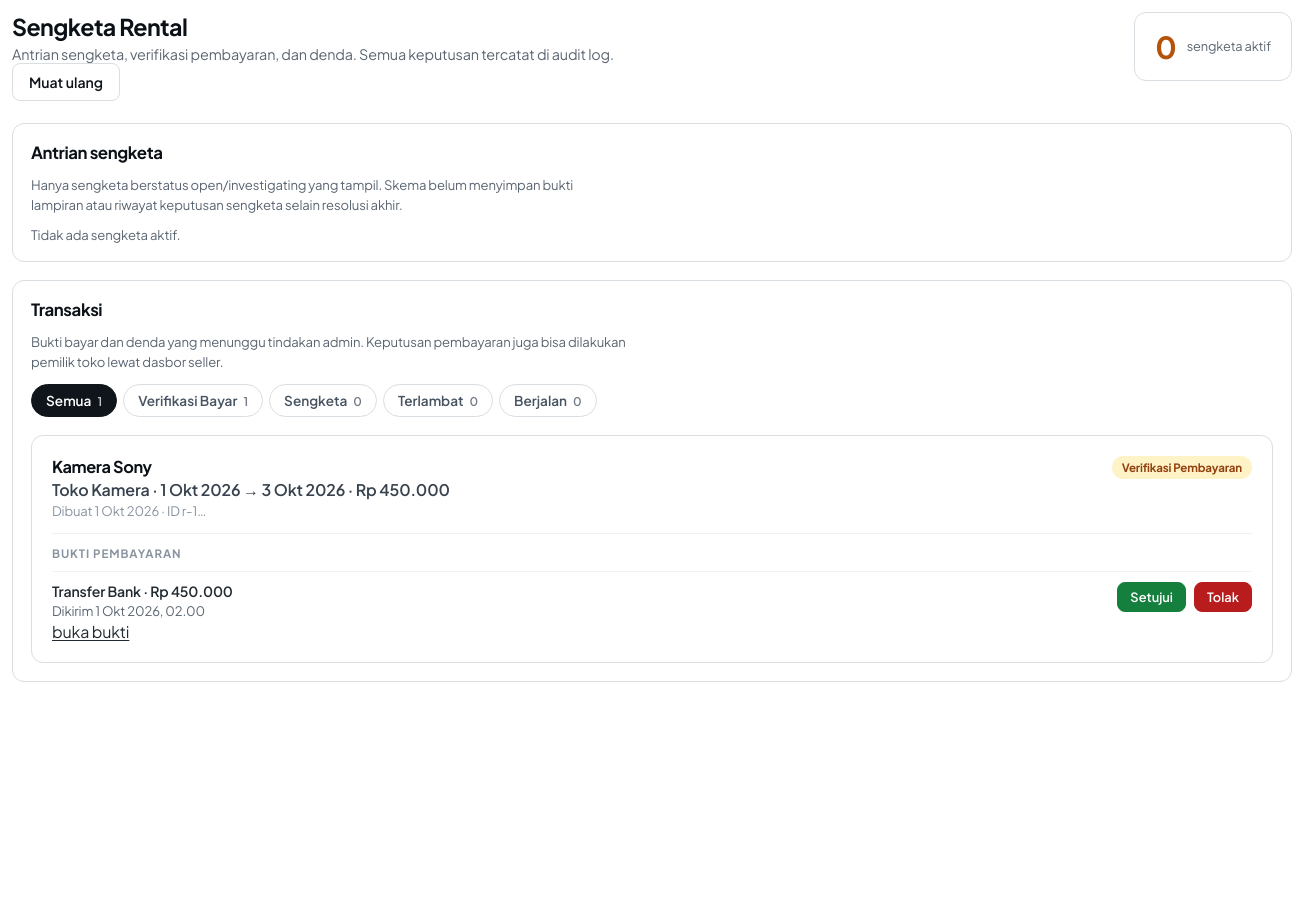
Scenario: AdminOrders — verifikasi pembayaran › gagal menolak bukti: alasan tetap terisi dan form tetap terbuka
expect the heading "Kamera Sony" is shown: met, box [52,456,152,477]
expect the text "Transfer Bank · Rp 450.000" is shown: met, box [52,582,233,600]
Click the button "Tolak". click: click(1223, 597)
box: [1194,582,1252,612]
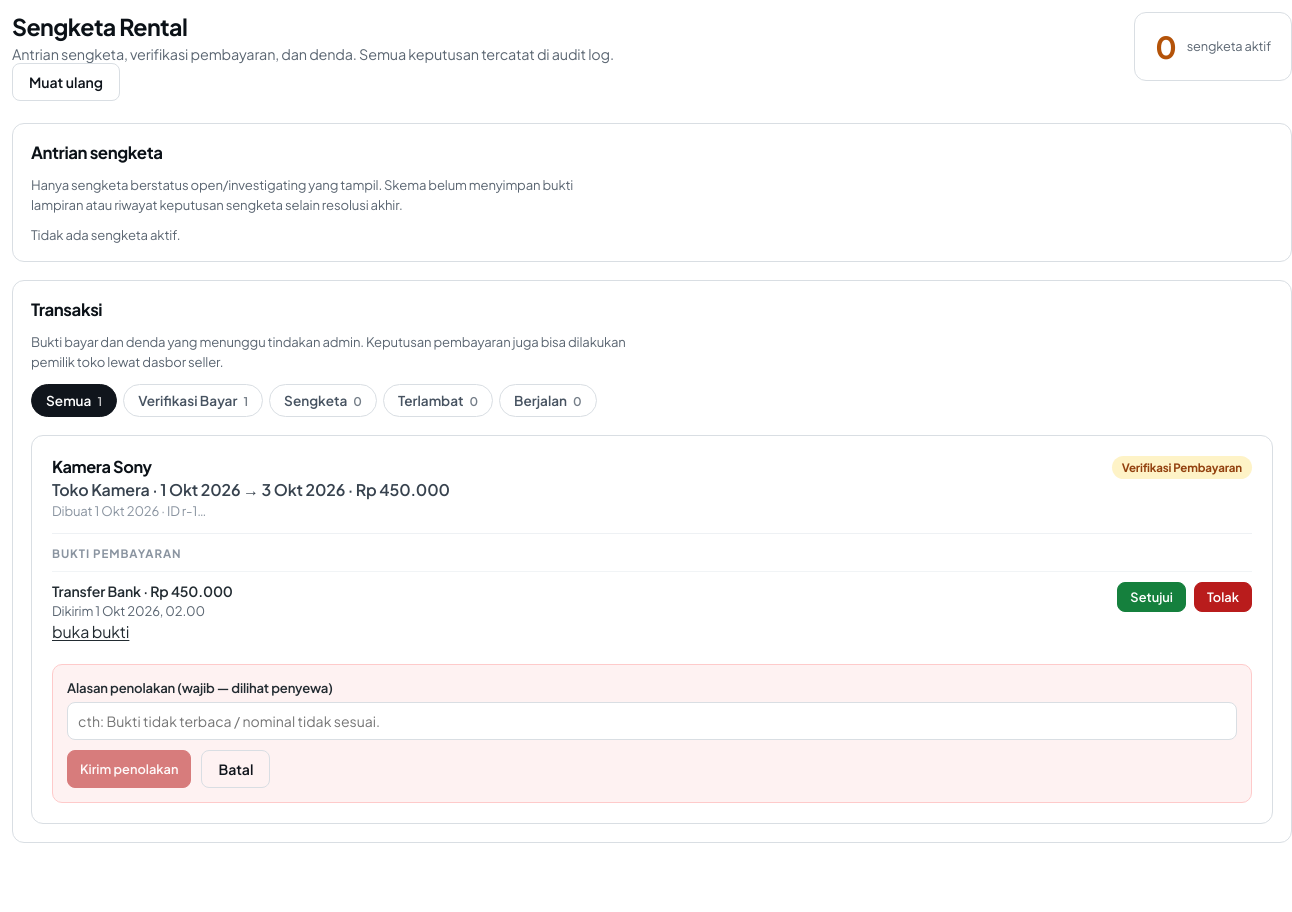
Type "Bukti buram." into the field labelled "Alasan penolakan (wajib — dilihat penyewa)". click: (652, 721)
box: [67,702,1237,740]
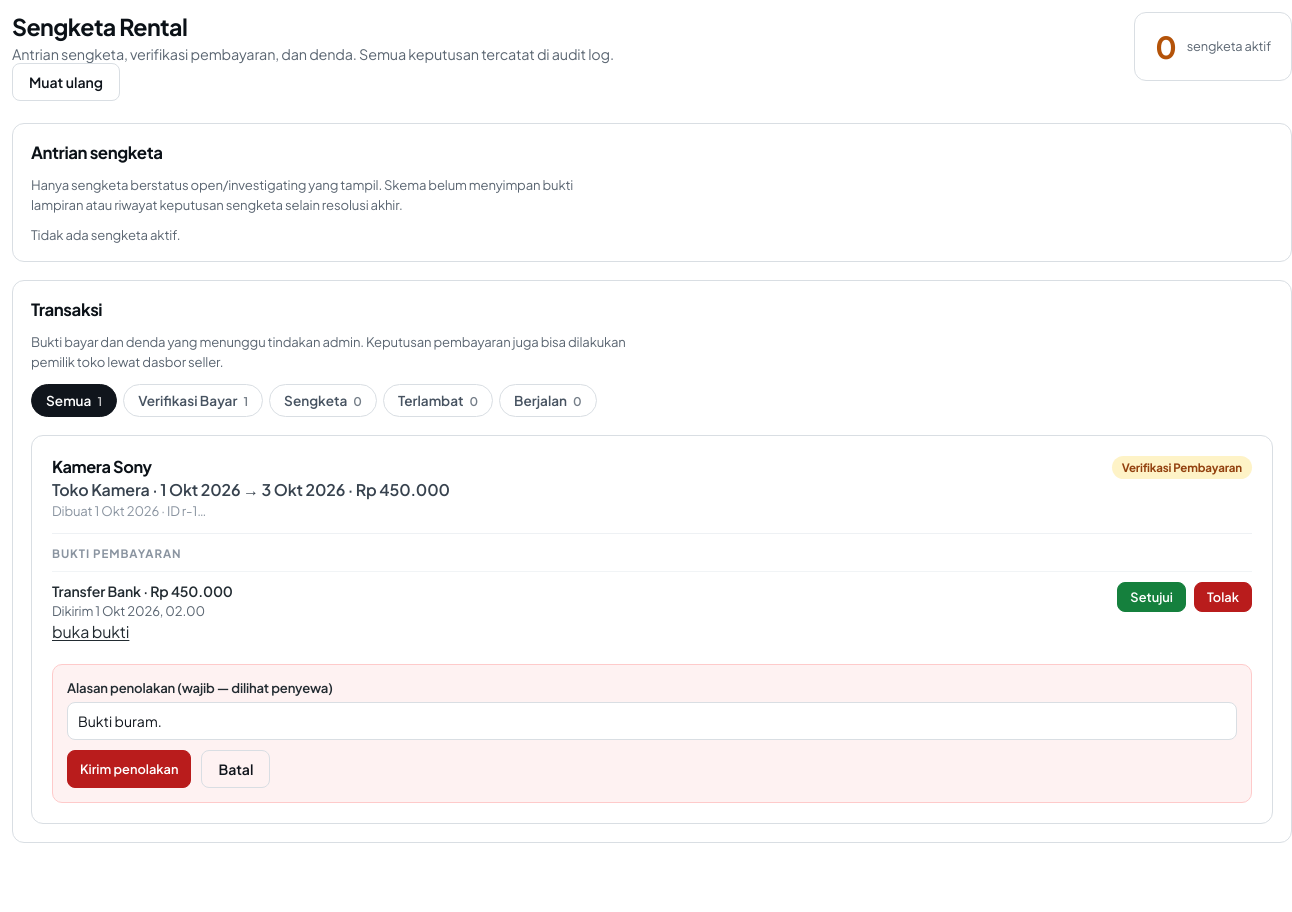
Click the button "Kirim penolakan". click: click(129, 769)
box: [67,750,192,788]
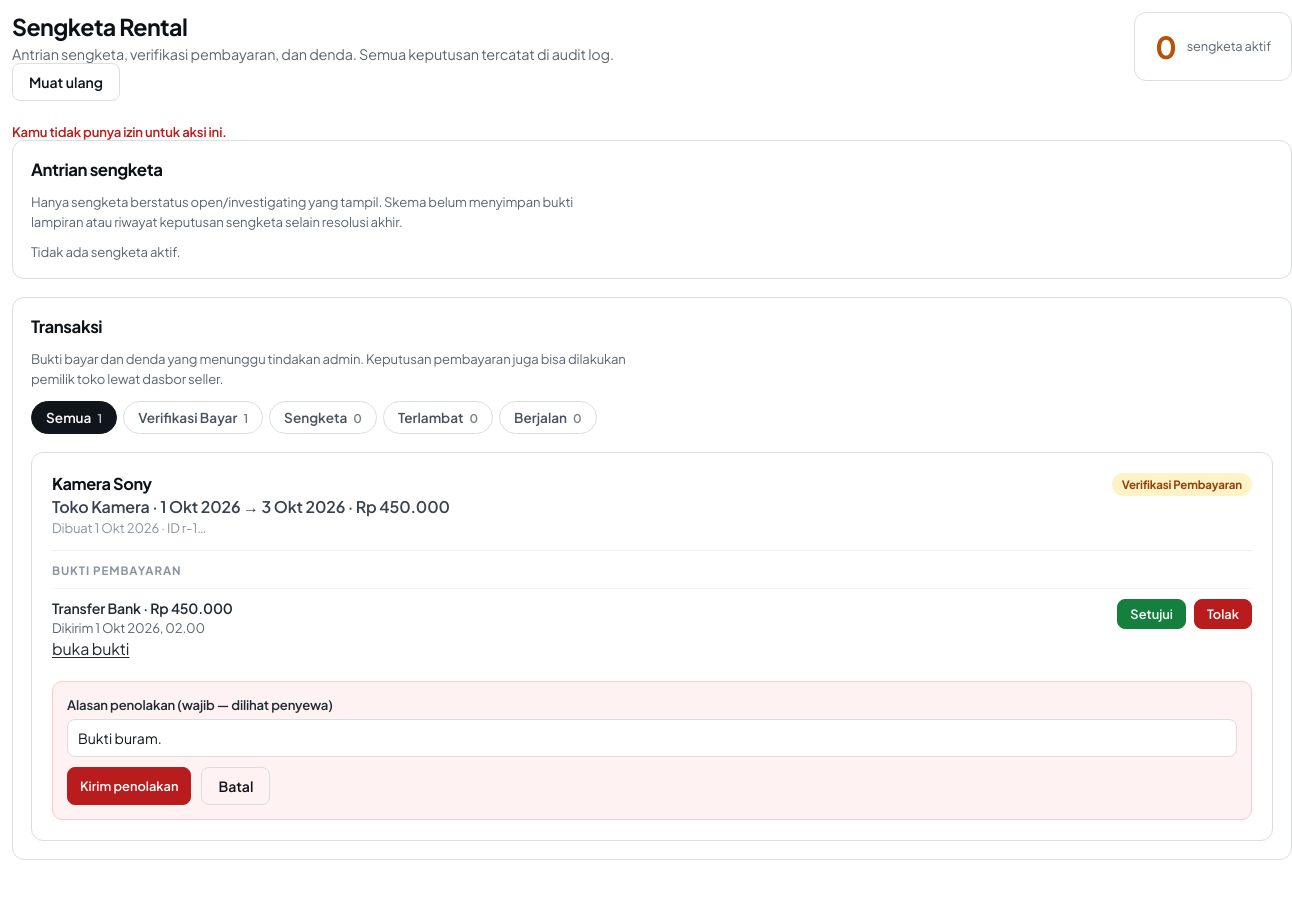
expect the message "Kamu tidak punya izin untuk aksi ini." is shown: met, box [12,123,227,140]
